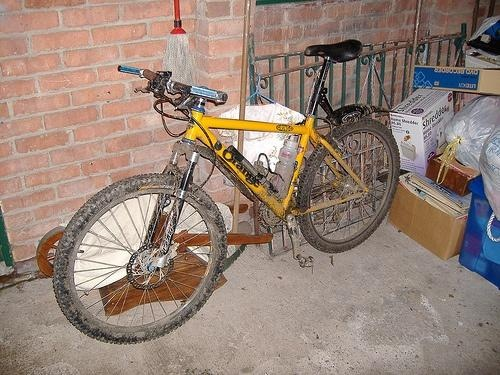bicycle: (52, 39, 402, 344)
